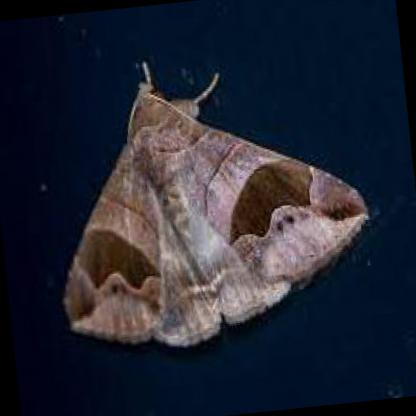fruit sucking moth: (64, 88, 368, 346)
